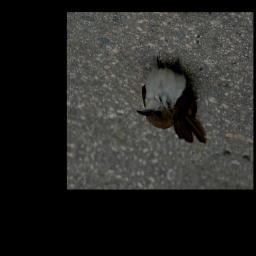Cuckoo: (133, 49, 219, 148)
